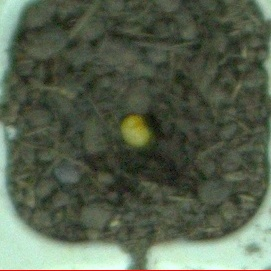chilli seed: (118, 112, 153, 148)
